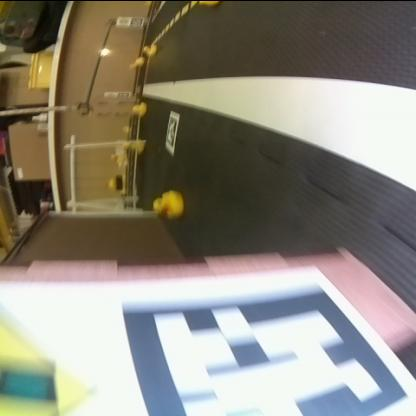Duckie: (152, 189, 180, 215), (128, 138, 142, 152), (131, 102, 145, 114), (142, 43, 156, 54)
QR code: (119, 272, 410, 416), (164, 109, 180, 152), (131, 16, 143, 24)
